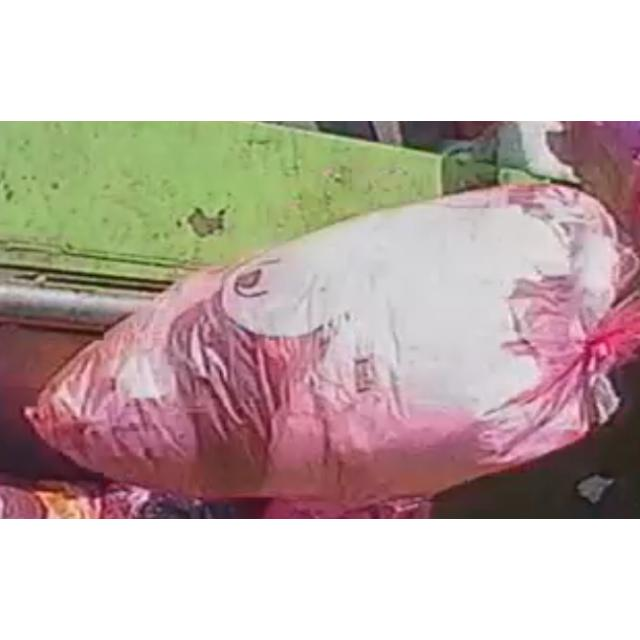other_trashbag: (25, 186, 640, 505)
